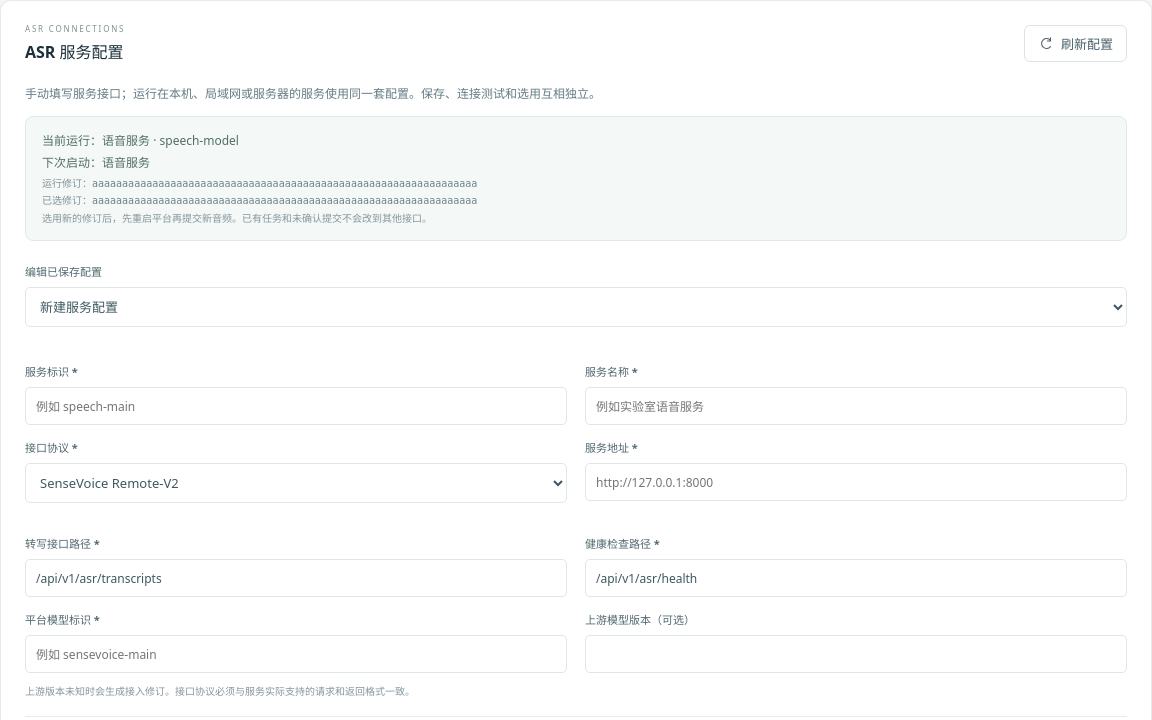
manual ASR configuration panel › only tests on explicit click, clears the result after an edit, and never equates health with transcription
This screenshot has width=1152, height=720.
Select "语音服务 · speech-main" in the dropdown labelled "编辑已保存配置": (576, 307) [25,287,1127,327]
(page scrolled)
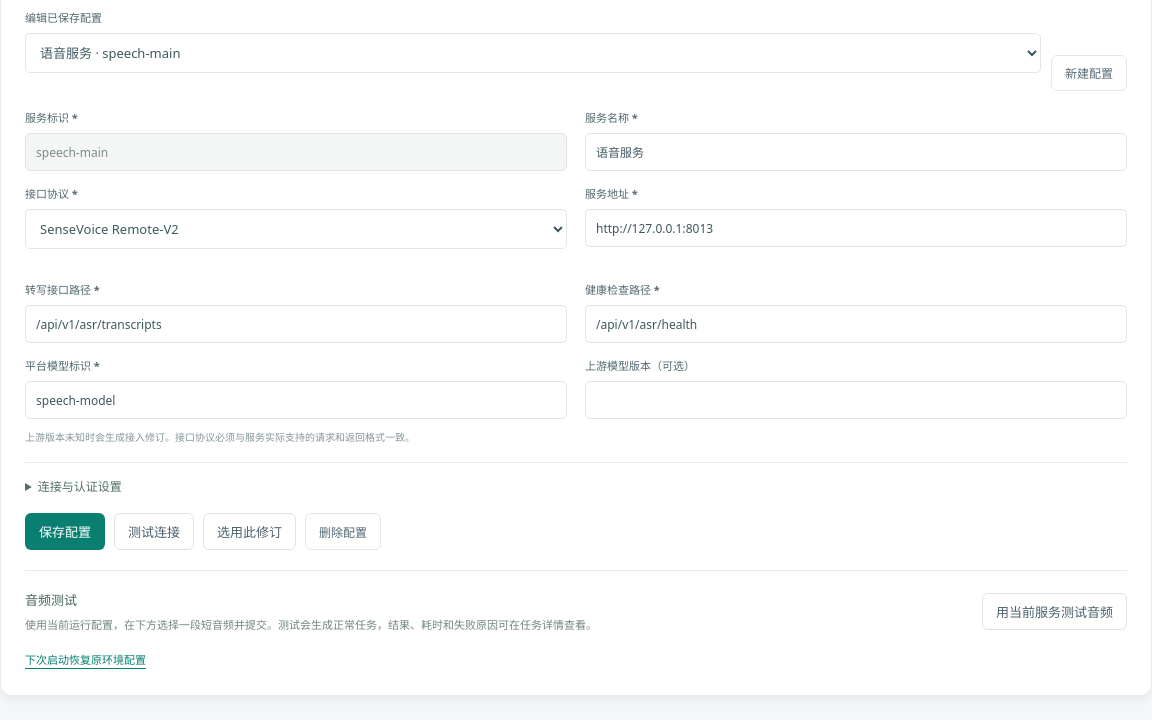
Click the button "测试连接": (154, 532) [114,513,194,550]
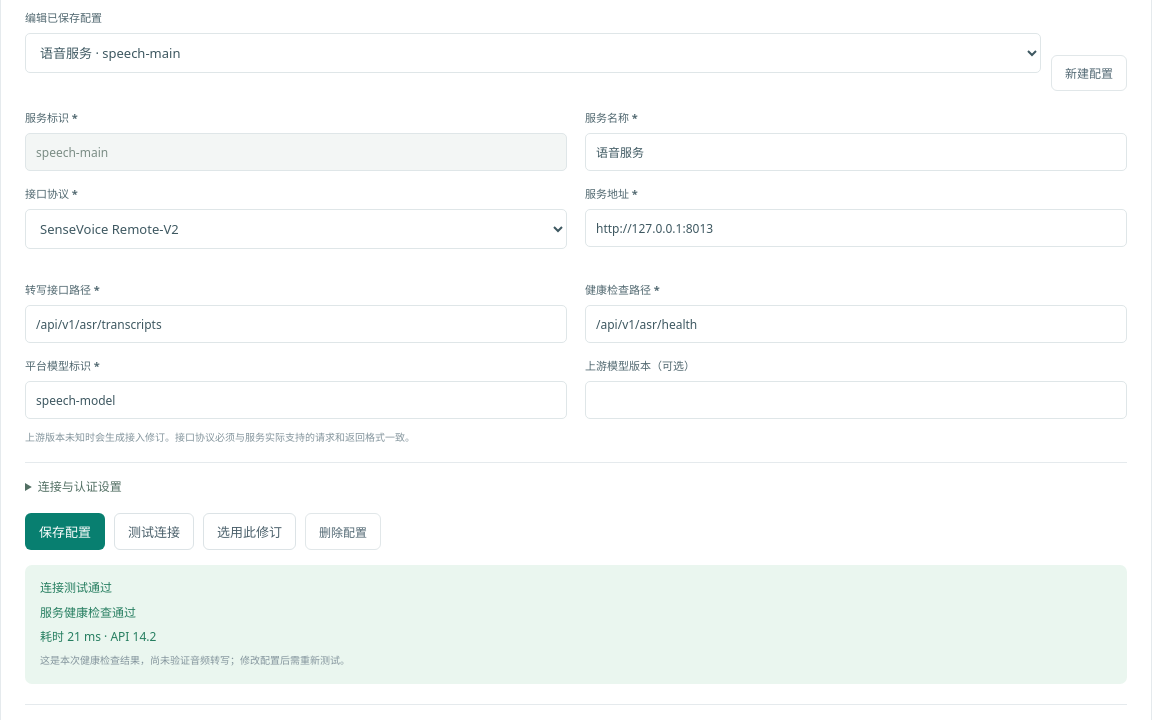
Now the text "连接测试通过" is shown, box [40,579,112,596]
Now the text "这是本次健康检查结果，尚未验证音频转写；修改配置后需重新测试。" is shown, box [40,653,350,667]
Replace the text in the field labelled "服务地址" with "http://127.0.0.1:8020": (856, 228) [585,209,1127,247]
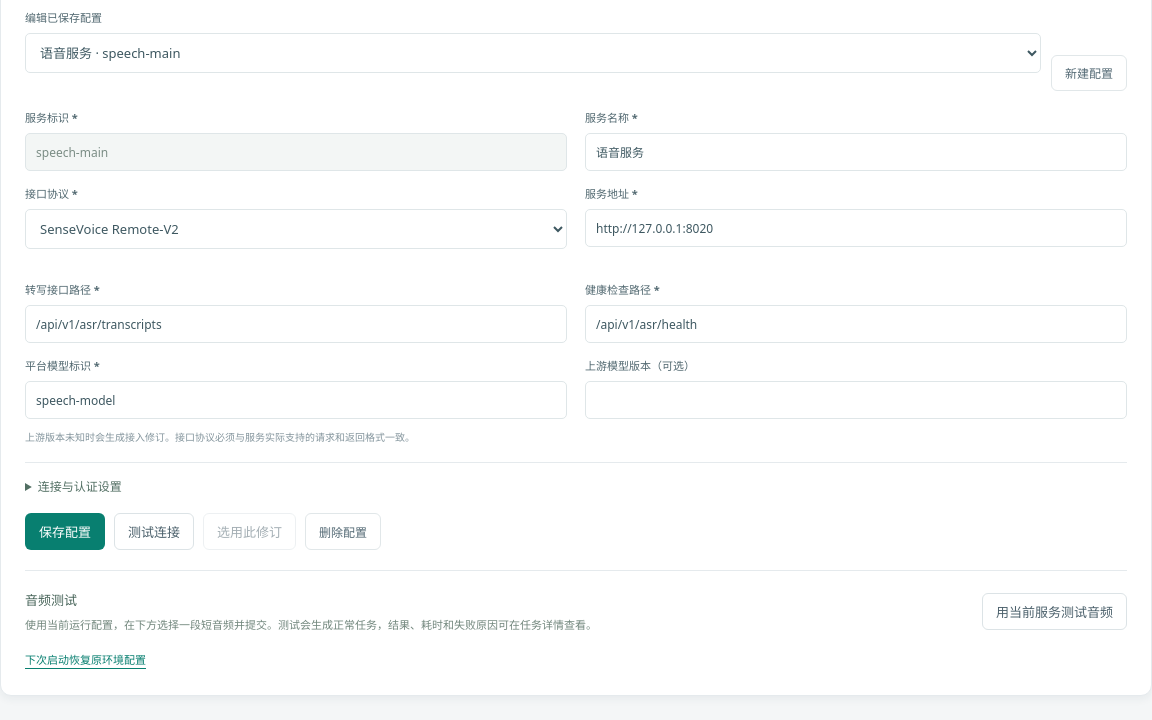
Now the text "连接测试通过" is gone
Now the button "选用此修订" is disabled, box [203,513,296,550]
